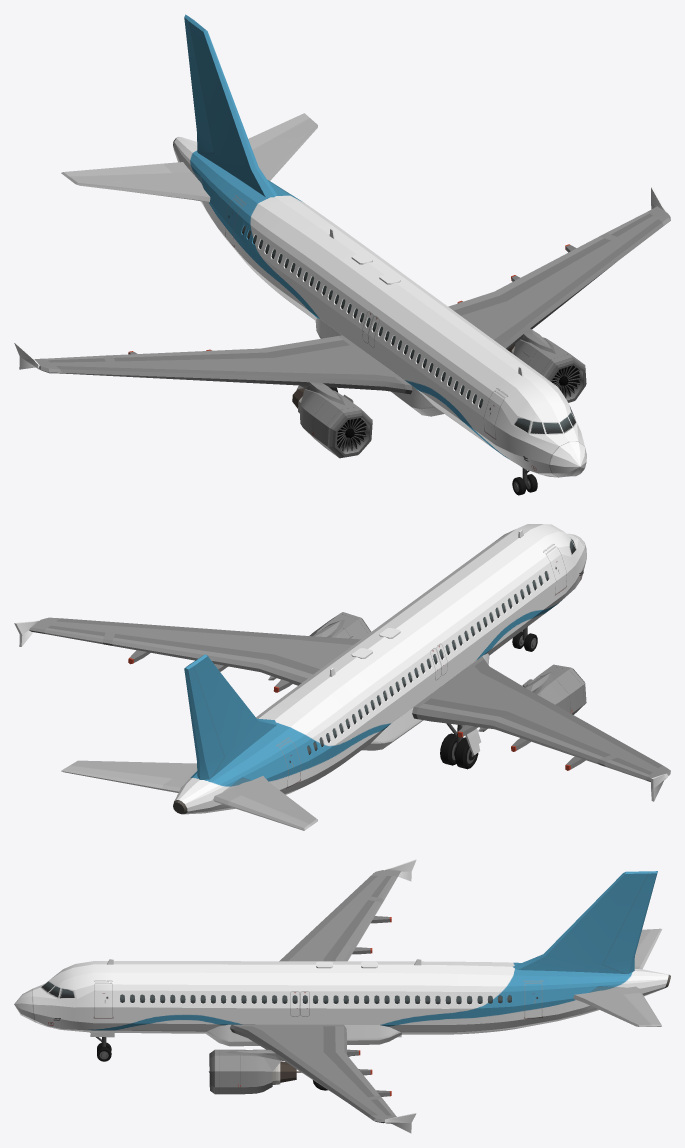
File: Passenger Aircraft V1.fbx
3 renders of one model, top to bottom at view 1: azimuth 30°, elevation 25°; view 2: azimuth 150°, elevation 25°; view 3: azimuth 270°, elevation 25°, orthographic. The views are drawn at different scales.
Parts seen in each view (by area): view 1: Body; view 2: Body, Back Wheel R; view 3: Body.
Part boxes in pixels (<box>): Body: <box>14,14,670,477</box>; Body: <box>14,524,670,830</box>; Back Wheel R: <box>440,733,478,769</box>; Body: <box>14,859,670,1133</box>.
Bounding box in the file's own units: 34.34 × 11.8 × 37.48.
Materials: 1 (1 with a texture image).
